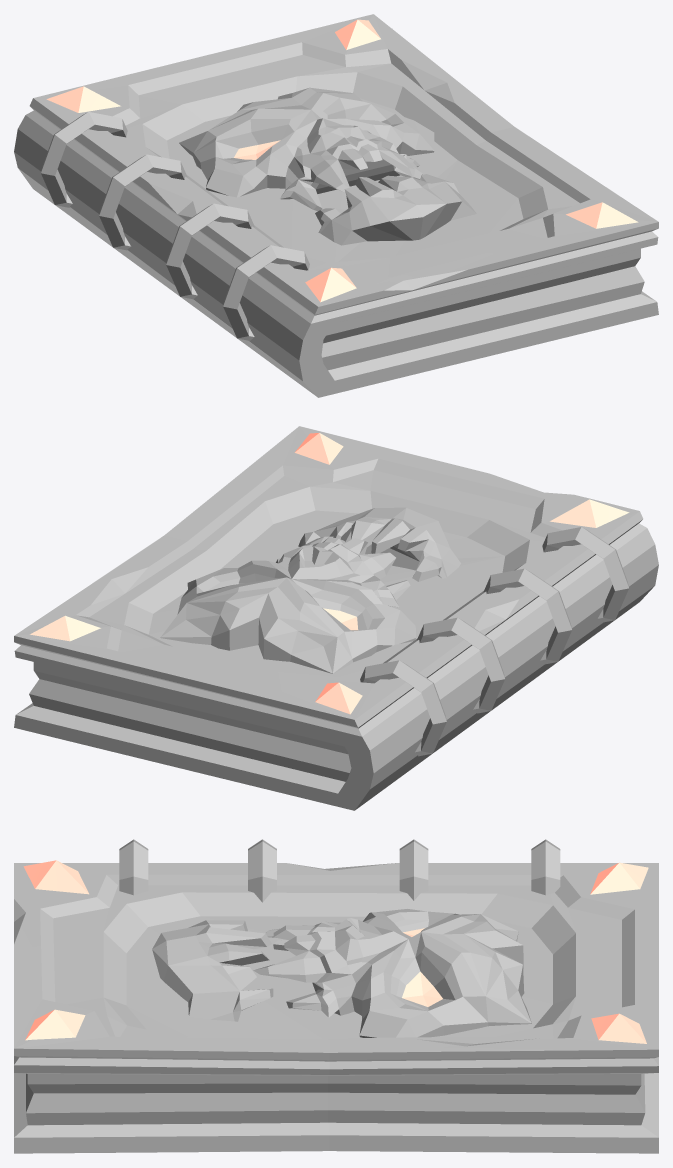
The model's file is SM_Prop_Book_01.fbx.
3 views of the same model, one above another, from view 1: azimuth 30°, elevation 25°; view 2: azimuth 150°, elevation 25°; view 3: azimuth 270°, elevation 25° (orthographic). The views are drawn at different scales.
Parts seen in each view (by area): view 1: SM_Prop_Book_01; view 2: SM_Prop_Book_01; view 3: SM_Prop_Book_01.
Boxes of the visible parts, bbox=[...] form: SM_Prop_Book_01: bbox=[14, 14, 658, 397]; SM_Prop_Book_01: bbox=[14, 426, 658, 810]; SM_Prop_Book_01: bbox=[14, 839, 658, 1153].
Bounding box in the file's own units: 41 × 12.2 × 52.92.
